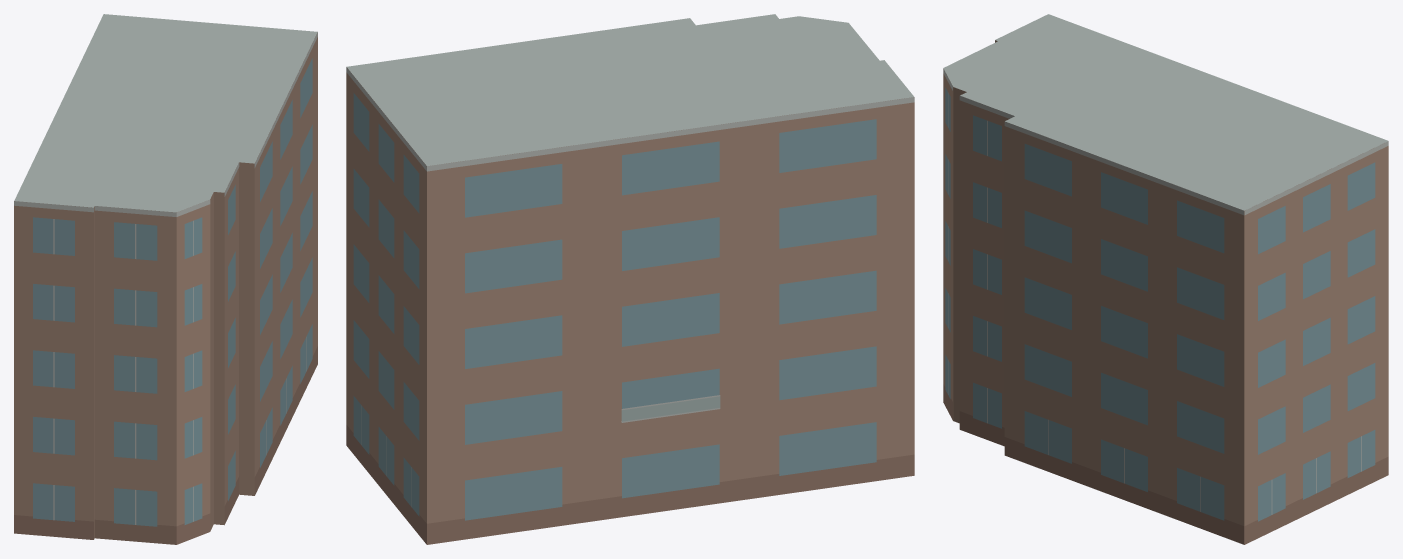
The model's file is survey-upis-32777524.glb.
3 renders of one model, left to right at view 1: azimuth 30°, elevation 25°; view 2: azimuth 150°, elevation 25°; view 3: azimuth 270°, elevation 25°, orthographic. The views are drawn at different scales.
Parts seen in each view (by area): view 1: survey-upis-32777524.tmp; view 2: survey-upis-32777524.tmp; view 3: survey-upis-32777524.tmp.
Boxes of the visible parts, x1,y1,x2,y2 form: survey-upis-32777524.tmp: (14, 14, 317, 544); survey-upis-32777524.tmp: (346, 14, 914, 544); survey-upis-32777524.tmp: (943, 14, 1388, 544).
Size of the model in its own units: 21.78 by 17.24 by 20.84.
